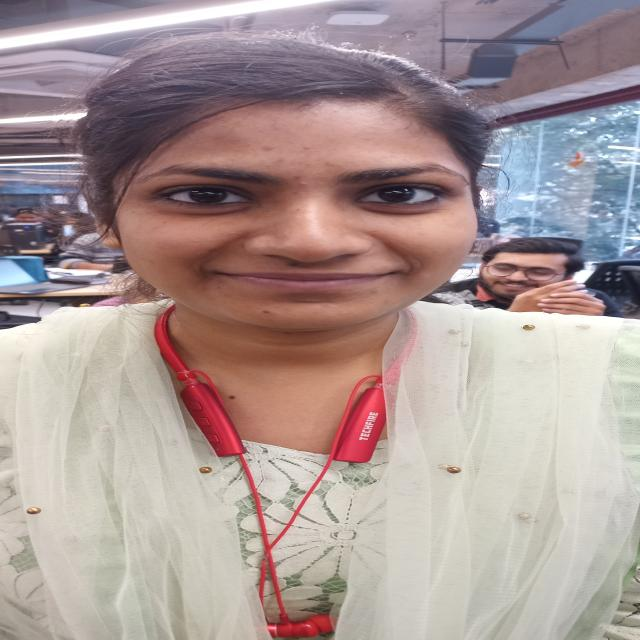Acne: (295, 178, 313, 190)
Spots: (239, 302, 302, 321), (240, 137, 293, 157), (269, 156, 308, 176), (319, 158, 350, 177)
